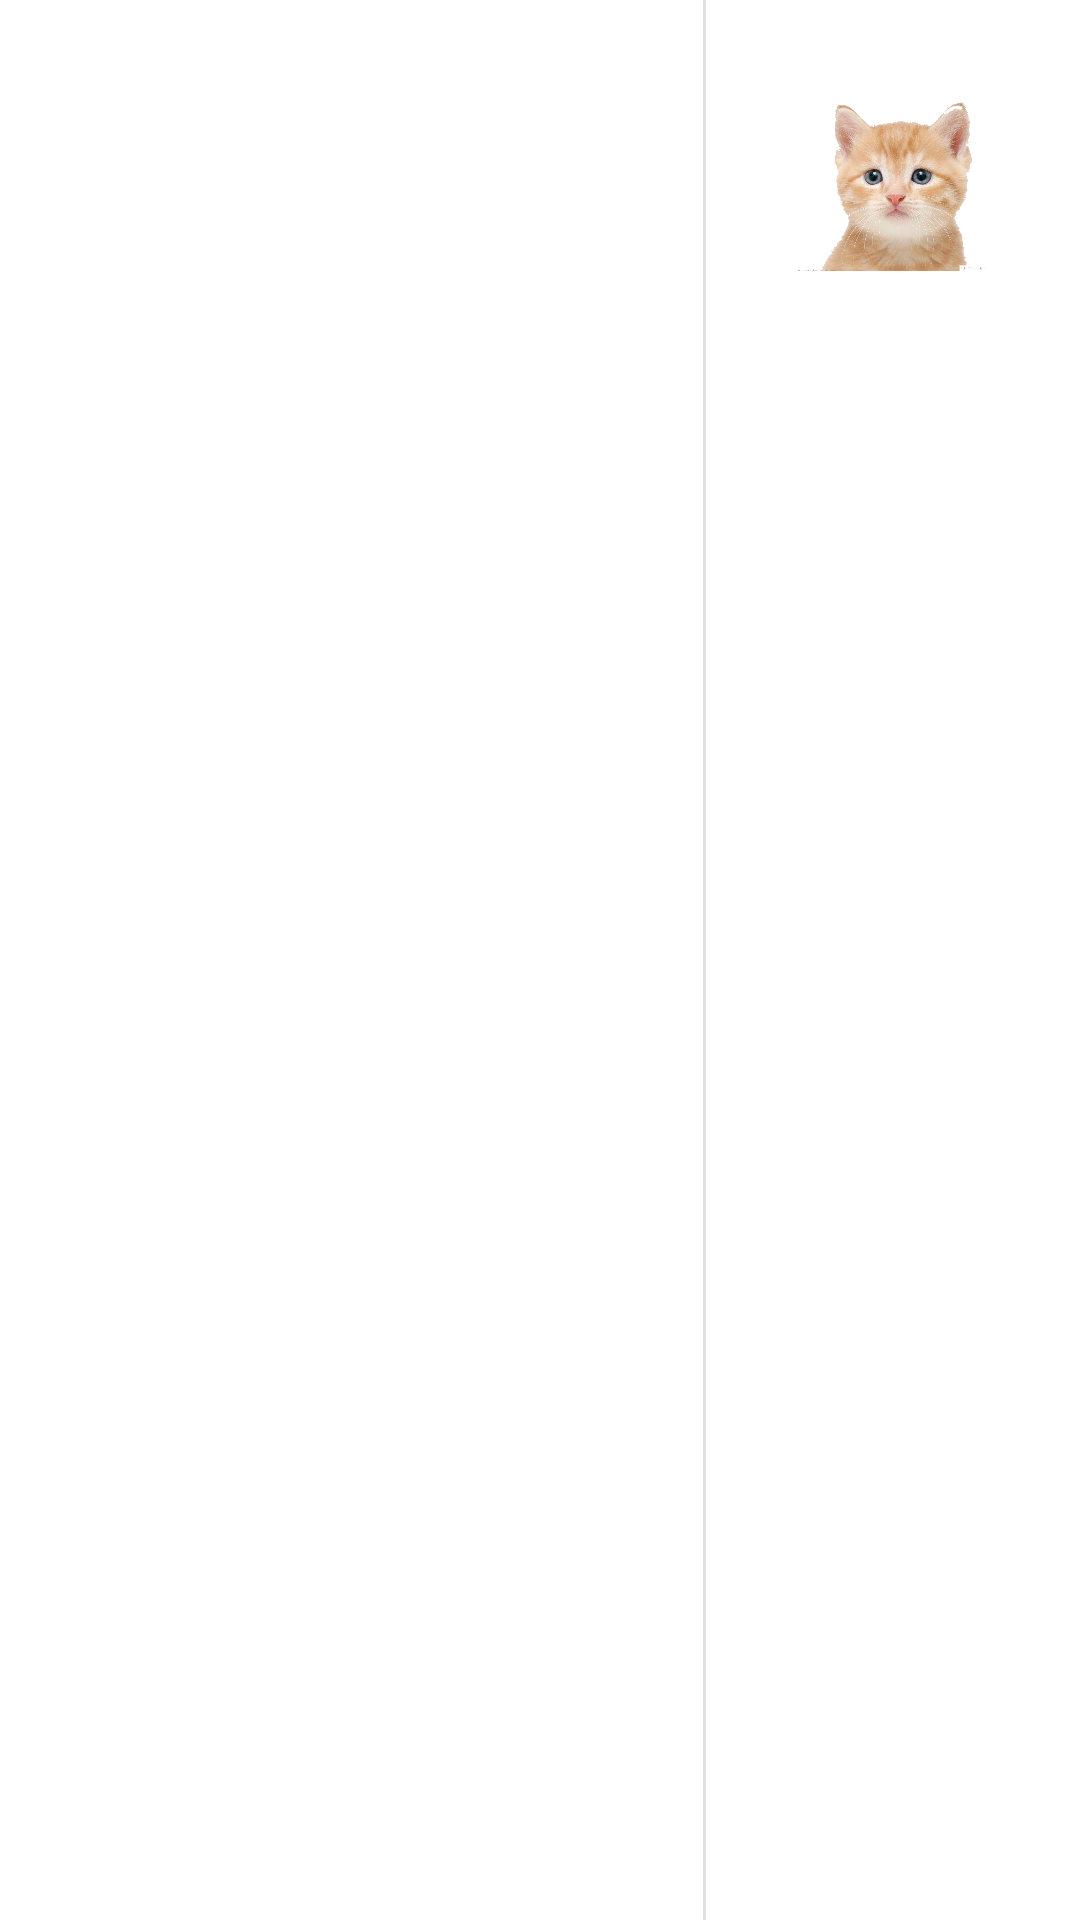

Where icons sit on this 1080 × 1920 app screen, as (x1, y1, x2, y2):
cat: (798, 102, 982, 271)
